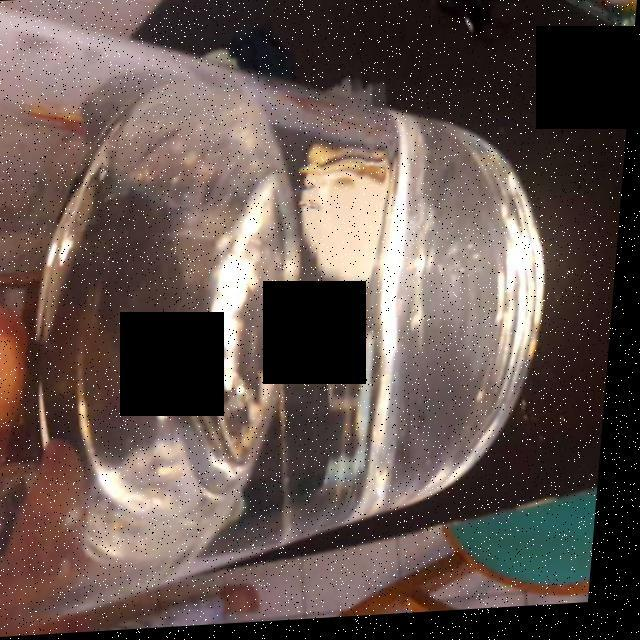water: (35, 72, 531, 576)
